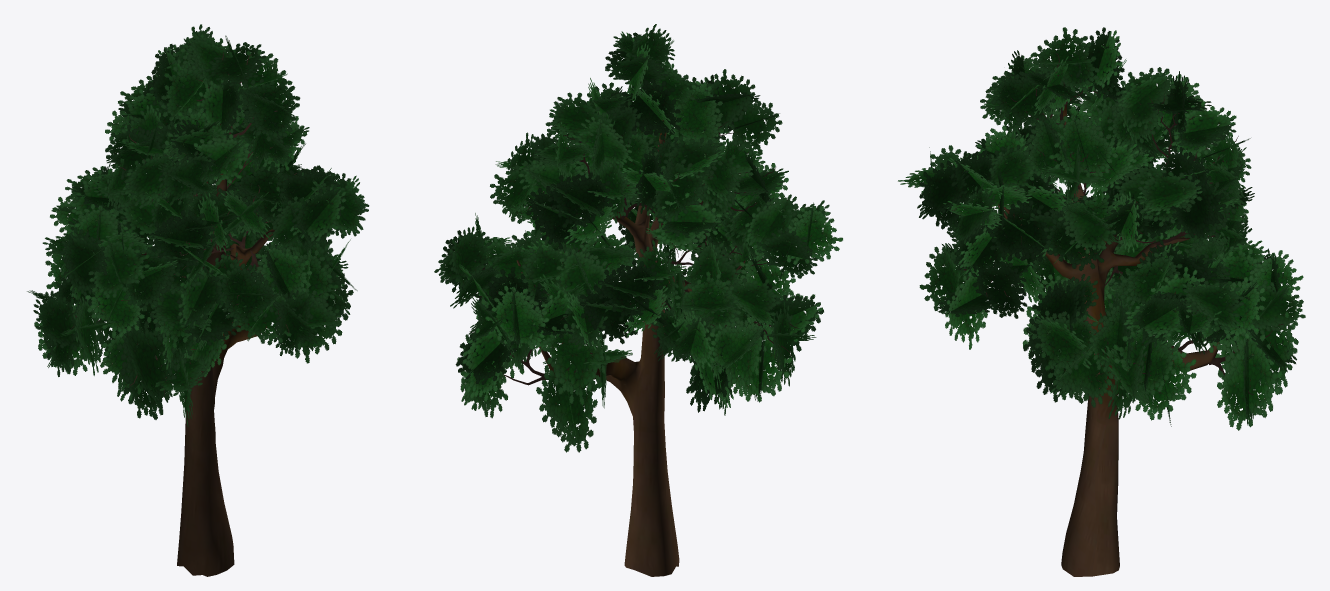
Rendered from arvore-carvalho.glb.
3 views of the same model, side by side, from view 1: azimuth 30°, elevation 25°; view 2: azimuth 150°, elevation 25°; view 3: azimuth 270°, elevation 25° (orthographic). The views are drawn at different scales.
Parts seen in each view (by area): view 1: Plane.003_0, Cone.012_0, Plane.018_0; view 2: Plane.003_0, Cone.012_0, Plane.018_0; view 3: Plane.003_0, Cone.012_0.
Part boxes in pixels (bbox=[...]): Plane.003_0: bbox=[27, 24, 369, 426]; Cone.012_0: bbox=[134, 123, 274, 576]; Plane.018_0: bbox=[53, 49, 301, 396]; Plane.003_0: bbox=[434, 24, 842, 452]; Cone.012_0: bbox=[516, 120, 745, 576]; Plane.018_0: bbox=[459, 34, 799, 385]; Plane.003_0: bbox=[898, 27, 1305, 430]; Cone.012_0: bbox=[998, 104, 1220, 576].
Bounding box in the file's own units: 2.79 × 4.05 × 2.84.
5 materials, 5 textured.
